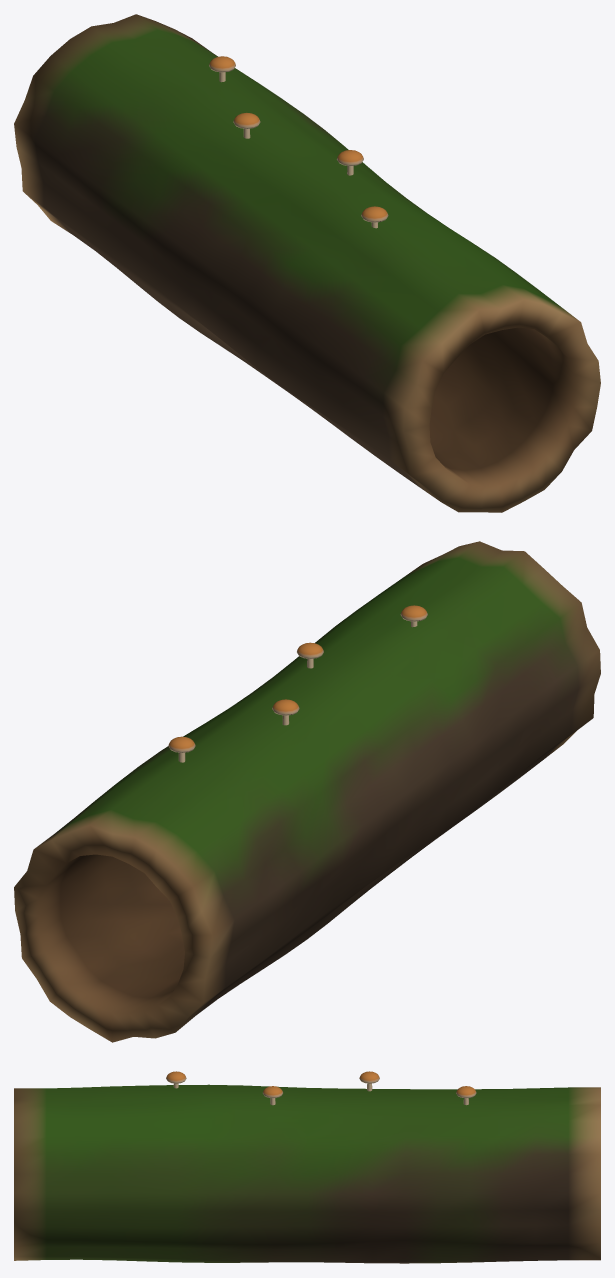
Rendered from Log.glb.
3 views of the same model, one above another, from view 1: azimuth 30°, elevation 25°; view 2: azimuth 150°, elevation 25°; view 3: azimuth 270°, elevation 25° (orthographic). The views are drawn at different scales.
Parts seen in each view (by area): view 1: LogWood, LogShrooms; view 2: LogWood, LogShrooms; view 3: LogWood, LogShrooms.
Boxes of the visible parts, box(x1,y1,x2,y2) form: LogWood: box(14, 14, 600, 512); LogShrooms: box(209, 56, 388, 228); LogWood: box(14, 541, 600, 1042); LogShrooms: box(168, 605, 427, 762); LogWood: box(14, 1084, 600, 1263); LogShrooms: box(166, 1071, 476, 1105).
Size of the model in its own units: 0.5122 by 0.5649 by 1.7.
